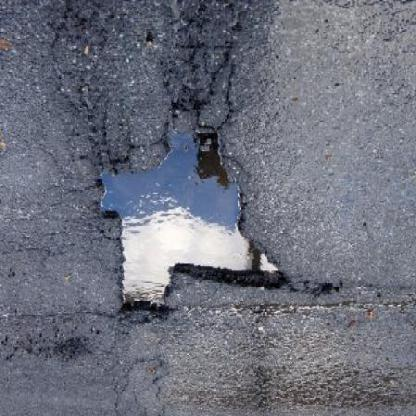pothole: (94, 119, 291, 325)
